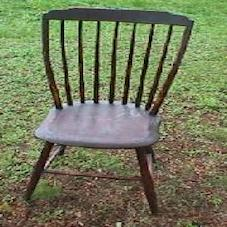chair: (29, 5, 181, 214)
